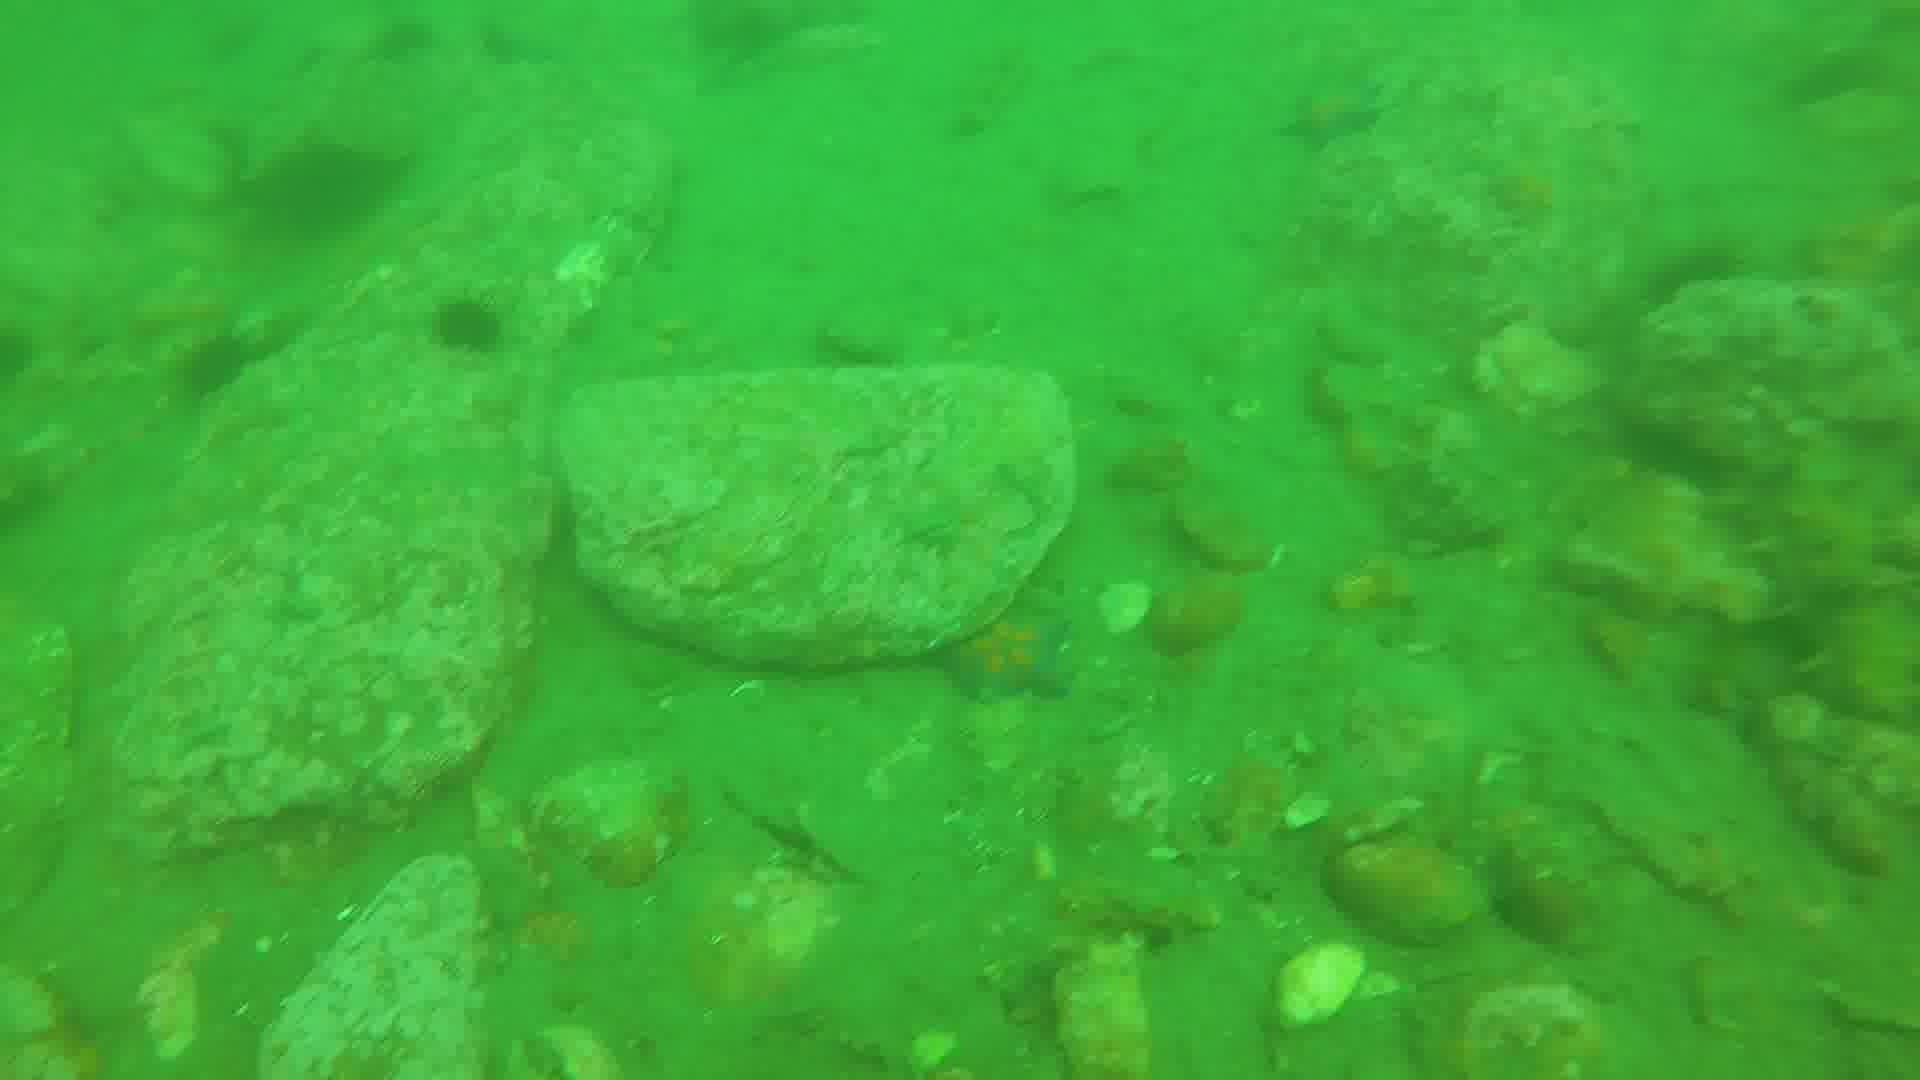echinus: (173, 335, 261, 396), (436, 290, 504, 359)
holothurian: (1714, 448, 1898, 736)
starfish: (928, 588, 1073, 709)
